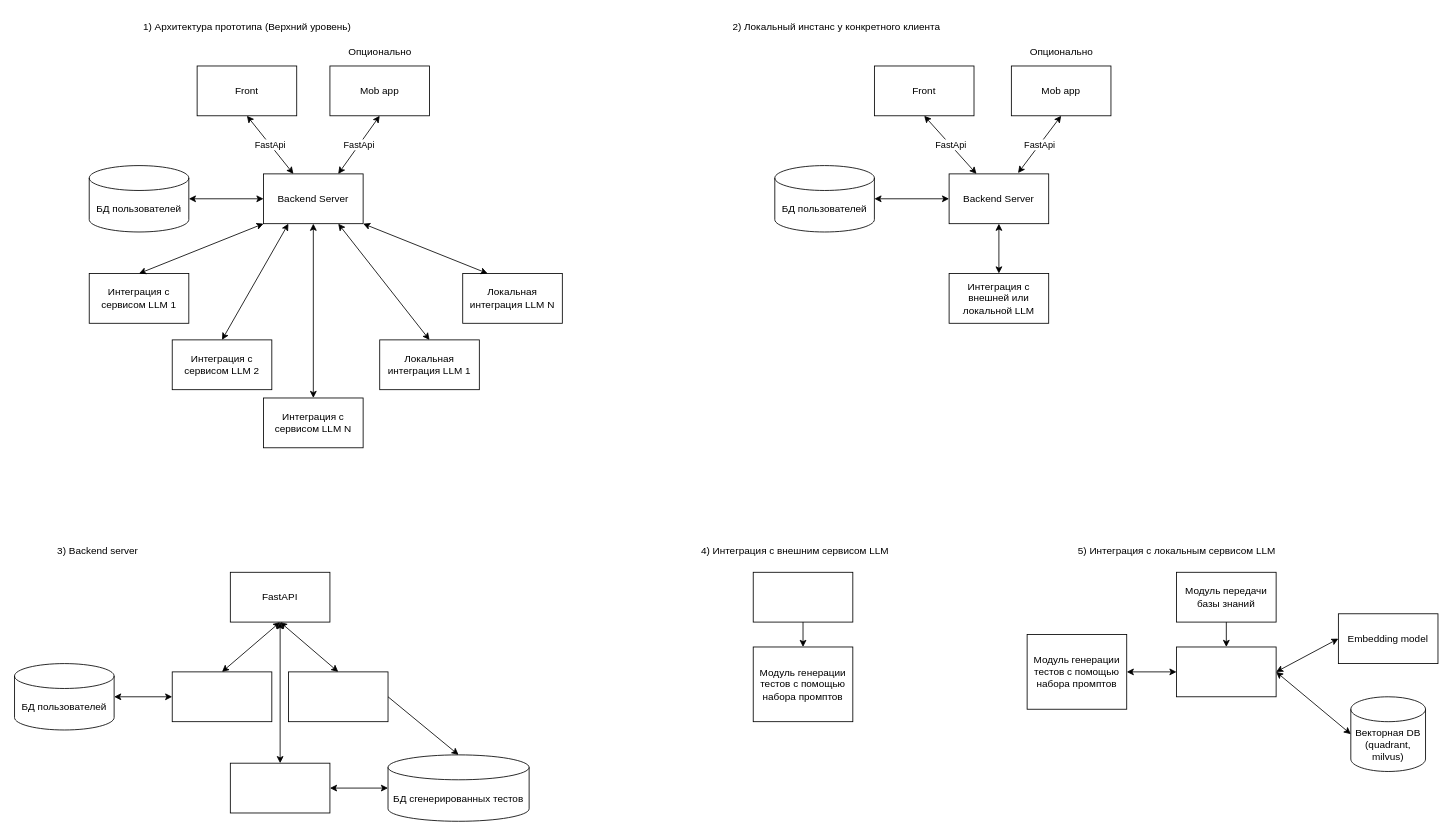
The diagram is 1453 pixels wide and 836 high, and some of its shapes have lost their labels. The box of each missing label's shape, as (x1, y1, x2, y2) in pixels:
Модуль RAG: (1176, 646, 1276, 697)
Модуль аутентификации: (171, 671, 272, 722)
Модуль взаимодействия с LLM интеграцией: (229, 762, 330, 813)
Модуль передачи базы знаний сервису: (752, 571, 853, 622)
Модуль проведения тестирования и выставления оценки: (288, 671, 388, 722)
